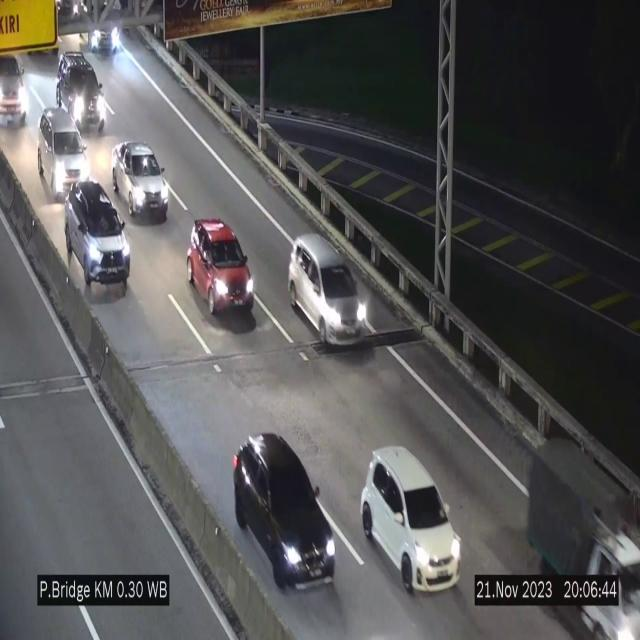Car: (232, 426, 337, 594), (361, 447, 461, 591), (288, 234, 370, 346), (64, 180, 132, 295), (187, 217, 256, 323), (54, 47, 108, 136), (40, 105, 88, 200), (112, 142, 169, 218), (0, 52, 38, 135), (75, 0, 119, 52)
Truck: (515, 422, 640, 640)
